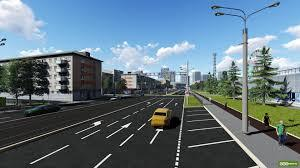Animal: (209, 1, 278, 152)
